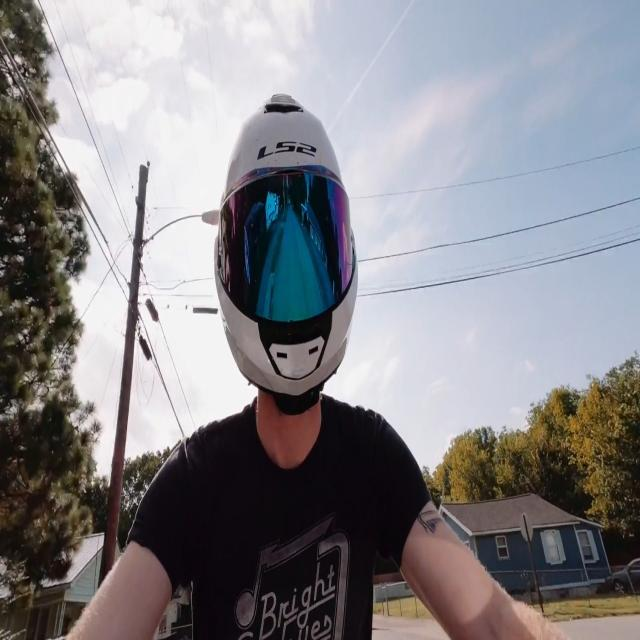Helmet_Wearer: (197, 83, 362, 423)
Person: (64, 86, 522, 640)
